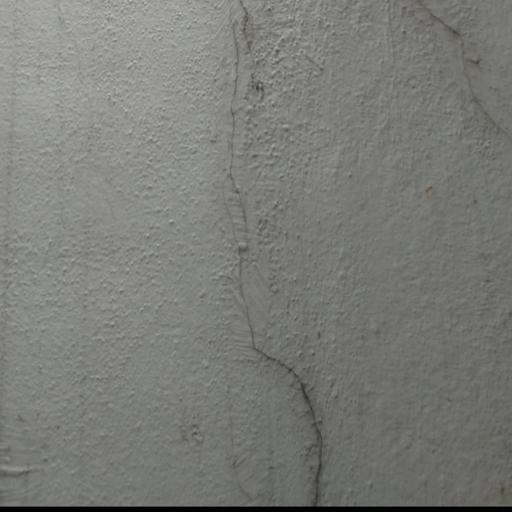minor_crack: (208, 0, 344, 512), (409, 1, 512, 140)
